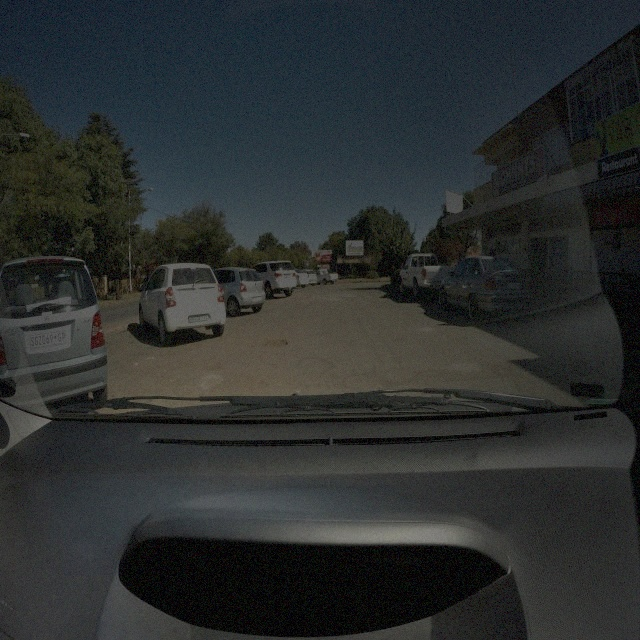pothole: (263, 339, 289, 348)
